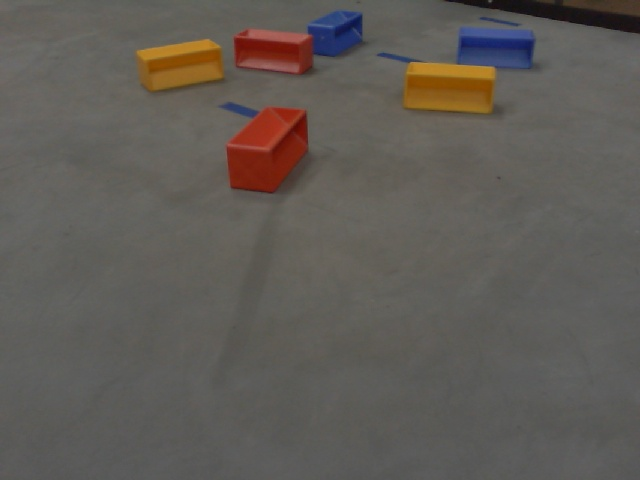BlueSample: (455, 25, 537, 71), (304, 10, 367, 56)
RedSample: (222, 104, 312, 194), (231, 25, 315, 77)
YellowSample: (398, 58, 499, 118), (130, 36, 227, 92)
